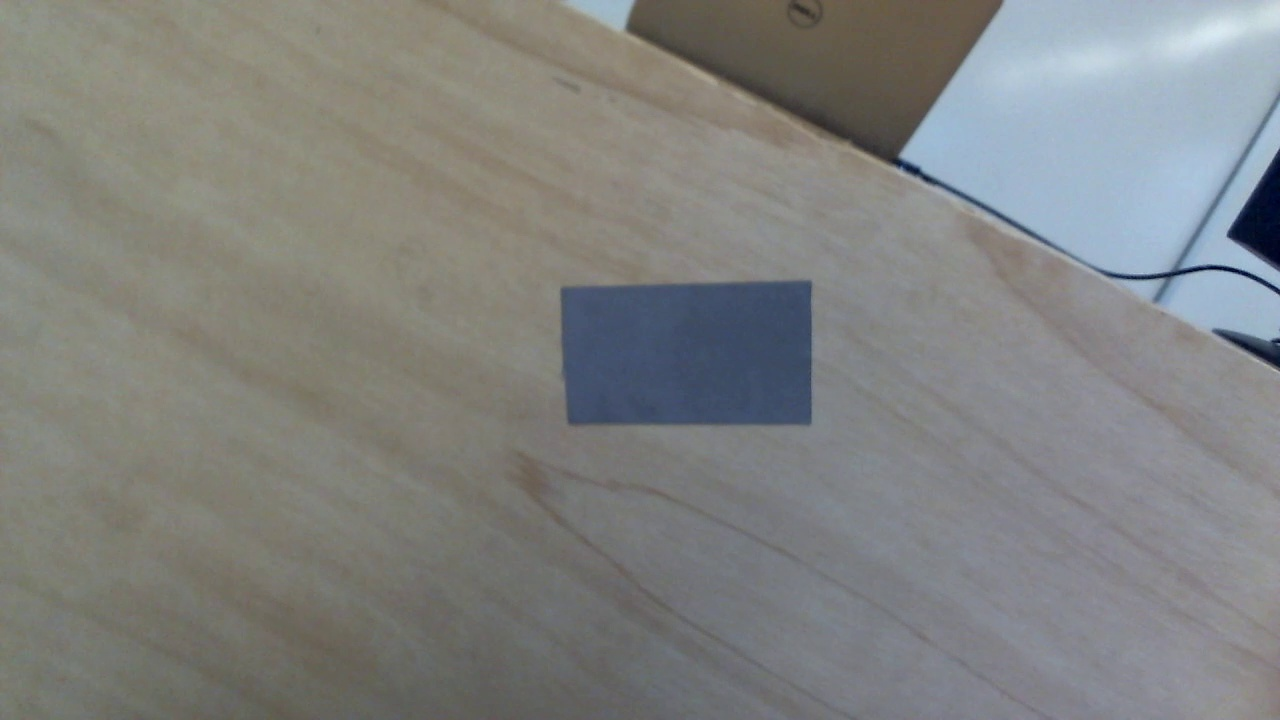Tape: (560, 281, 813, 426)
